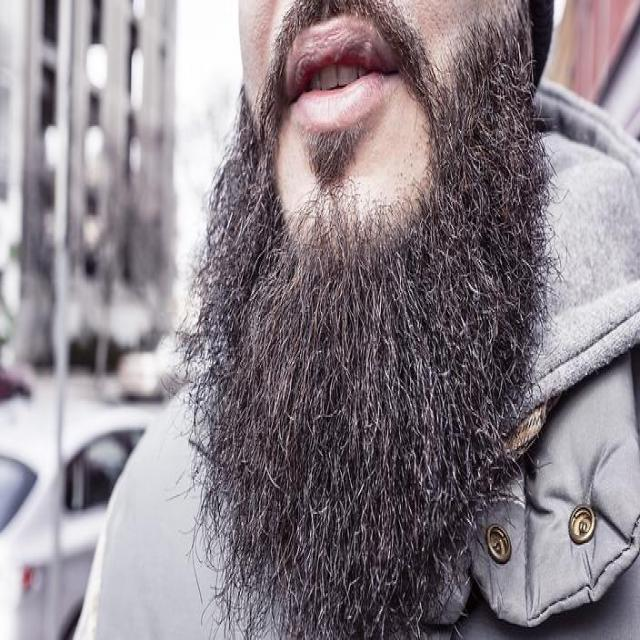beard: (181, 0, 550, 640)
